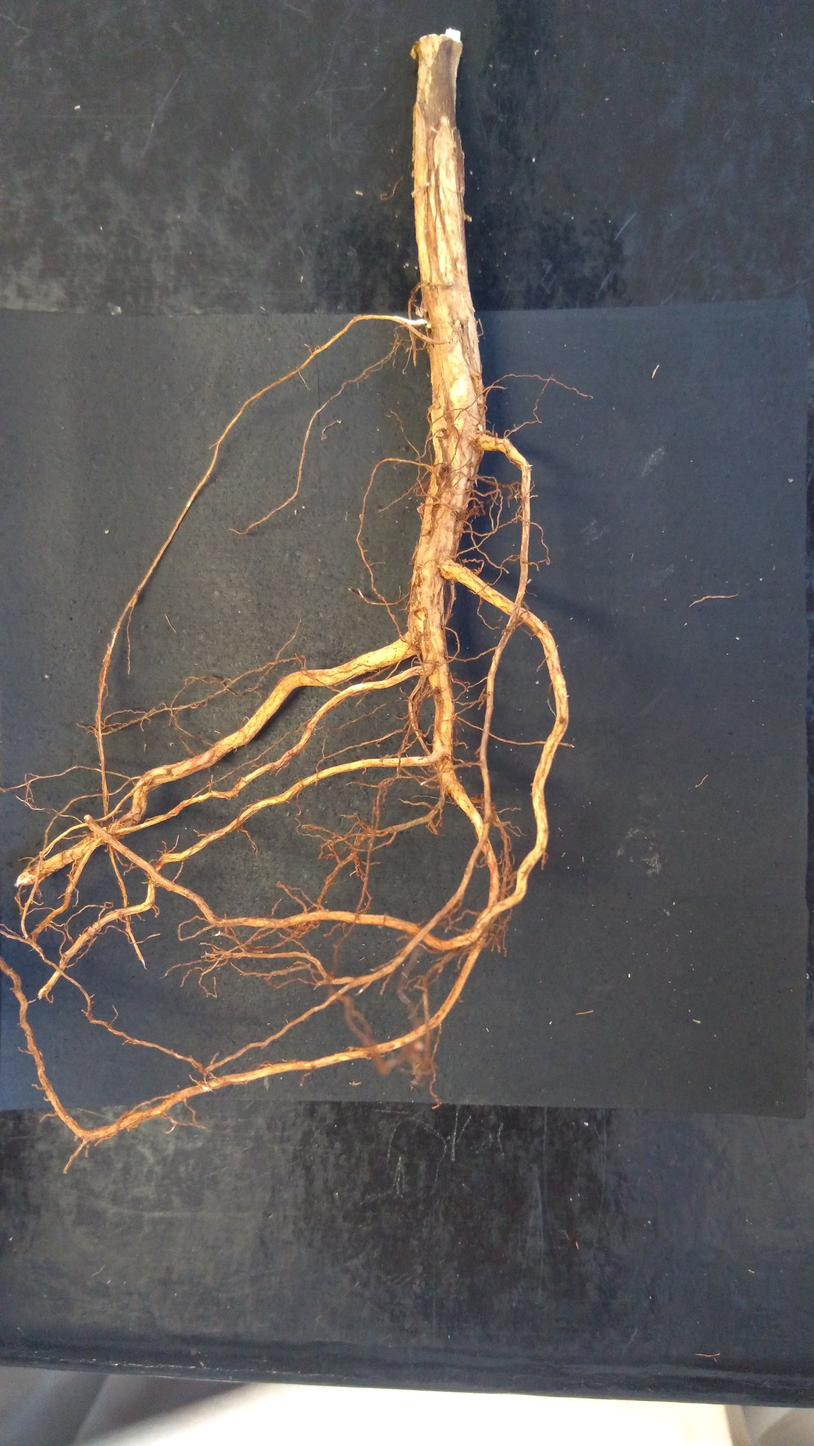nodule: (417, 502, 425, 520), (414, 306, 424, 317), (453, 319, 463, 329)
